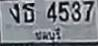3: (71, 0, 80, 20)
4: (46, 1, 56, 21)
5: (58, 1, 68, 21)
7: (82, 0, 94, 21)
A07: (9, 3, 19, 22)
A24: (22, 2, 34, 22)
